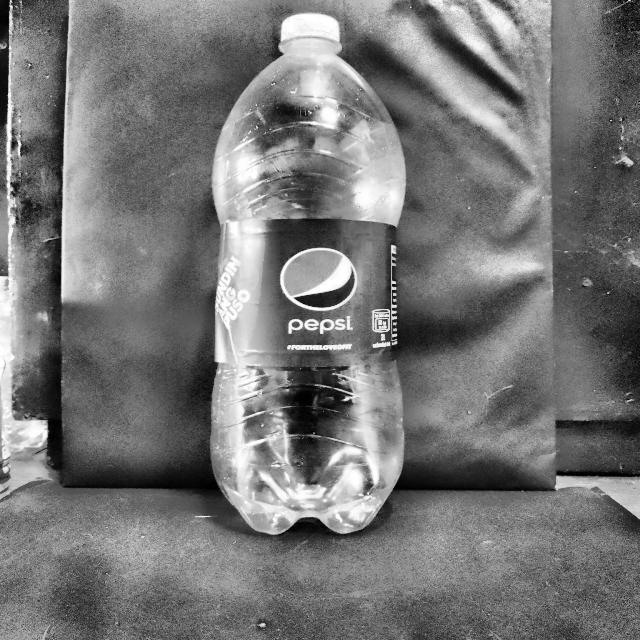Plastic-Bottle: (206, 10, 411, 540)
